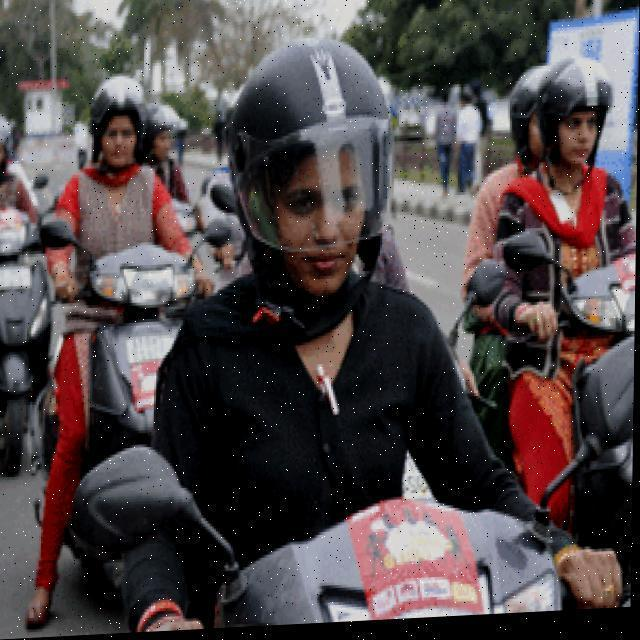Helmet: (229, 14, 405, 310), (533, 48, 622, 188), (88, 68, 154, 176)
